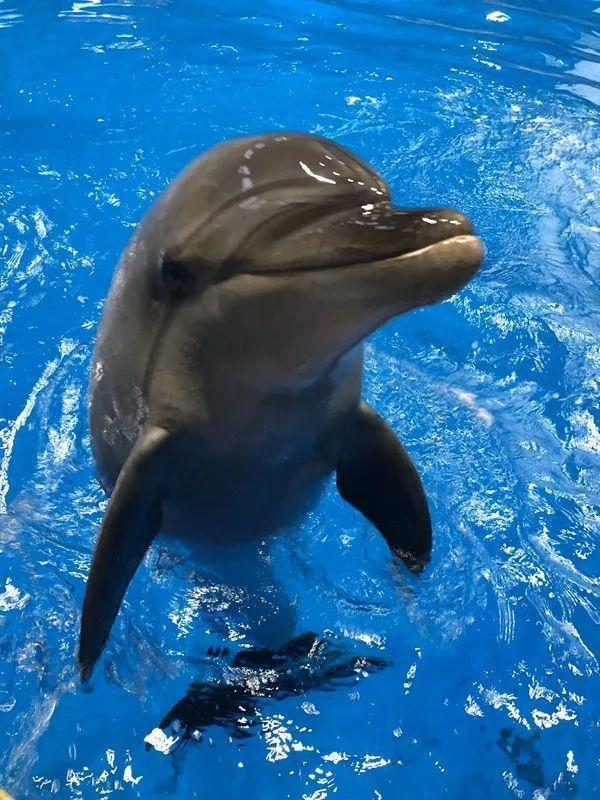fish: (62, 126, 486, 679)
